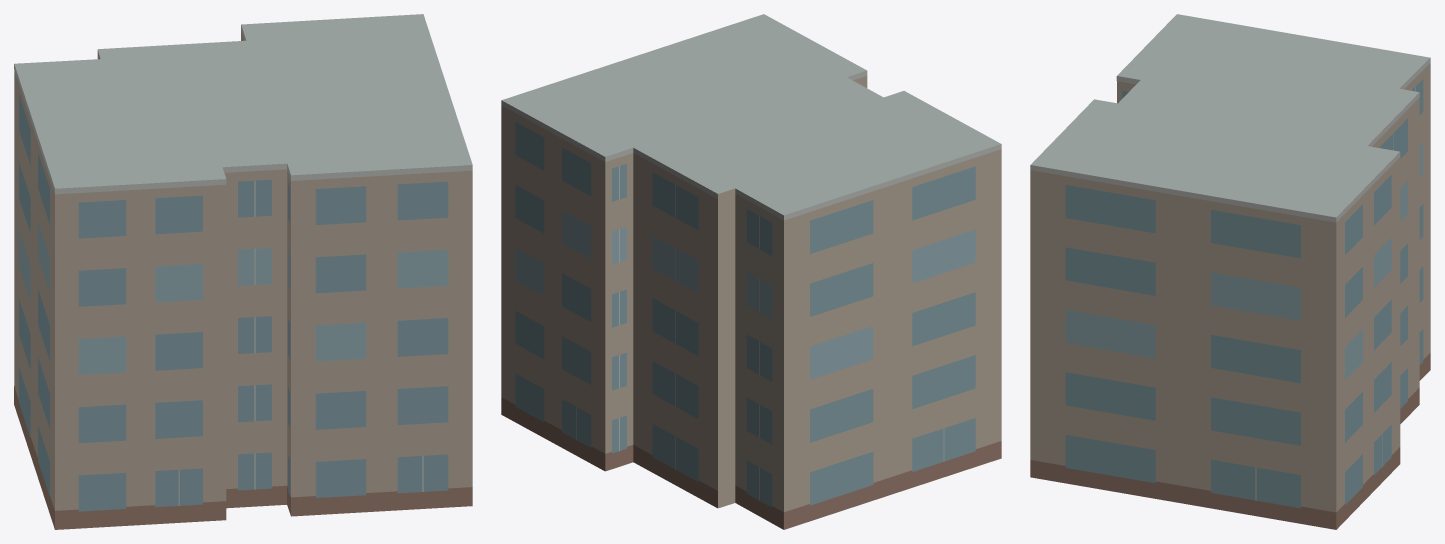
Rendered from survey-upis-32680577.glb.
3 views of the same model, side by side, from view 1: azimuth 30°, elevation 25°; view 2: azimuth 150°, elevation 25°; view 3: azimuth 270°, elevation 25° (orthographic). The views are drawn at different scales.
Visible parts, largest first — view 1: survey-upis-32680577.tmp; view 2: survey-upis-32680577.tmp; view 3: survey-upis-32680577.tmp.
Part boxes in pixels (bbox=[...]): survey-upis-32680577.tmp: bbox=[14, 14, 472, 529]; survey-upis-32680577.tmp: bbox=[501, 14, 1001, 529]; survey-upis-32680577.tmp: bbox=[1030, 14, 1430, 529].
Size of the model in its own units: 20.69 by 14.8 by 17.19.
